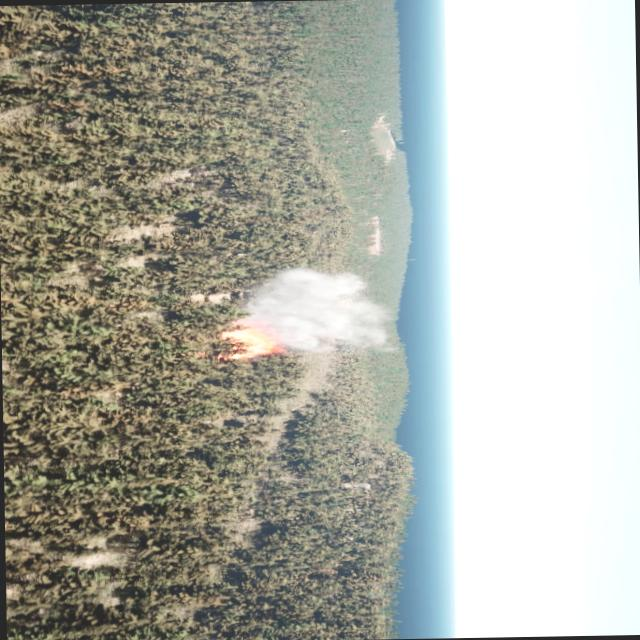fire: (219, 316, 284, 364)
smoke: (244, 263, 393, 354)
